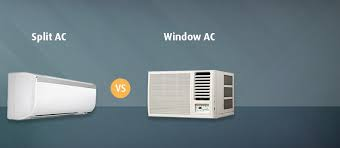ac: (3, 68, 103, 125)
